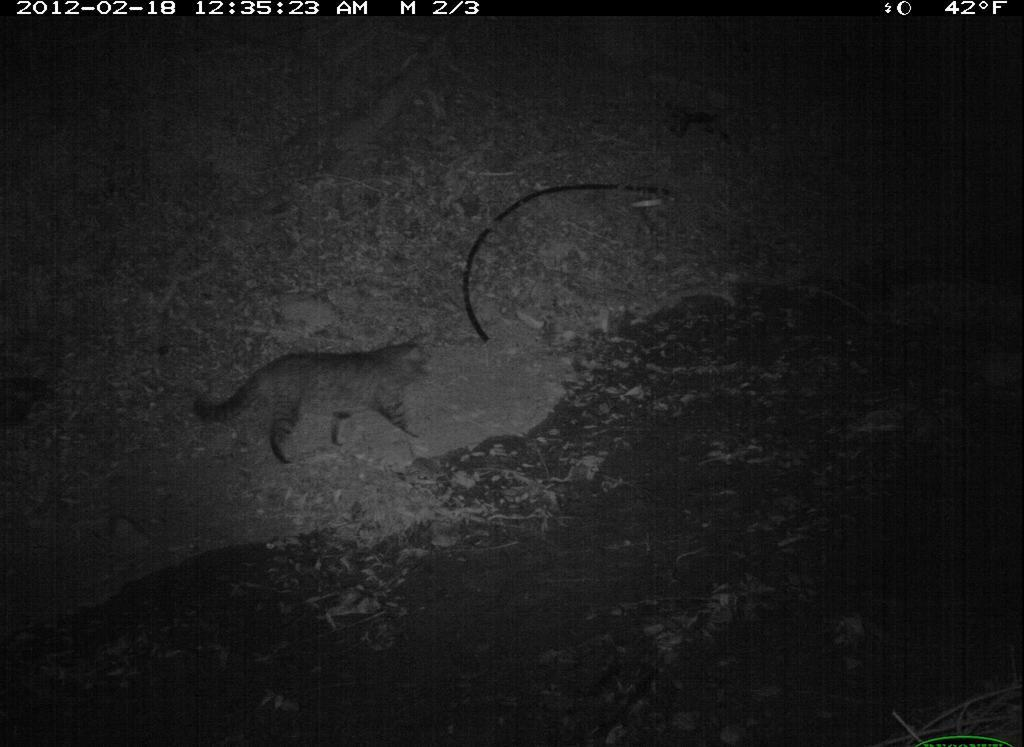cat: (187, 328, 433, 477)
